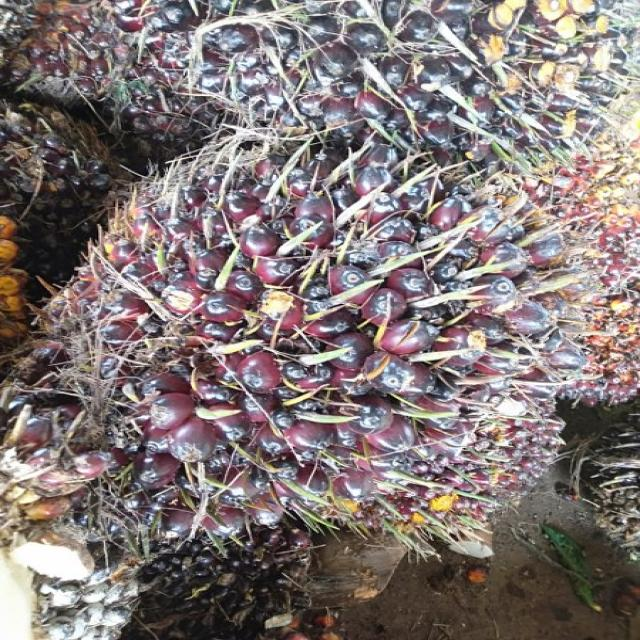fraksi 1: (31, 128, 576, 542)
